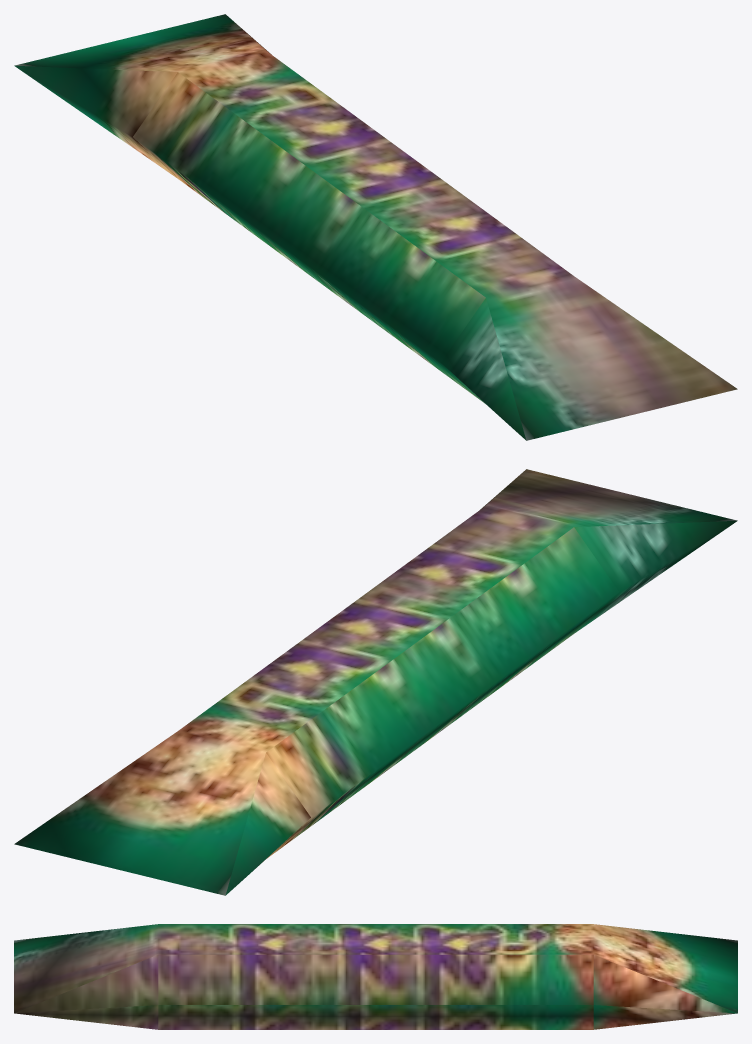
Rendered from Cookies_05.glb.
The picture shows the model from 3 angles, top to bottom: view 1: azimuth 30°, elevation 25°; view 2: azimuth 150°, elevation 25°; view 3: azimuth 270°, elevation 25°; orthographic projection. The views are drawn at different scales.
Visible parts, largest first — view 1: Cookies_05; view 2: Cookies_05; view 3: Cookies_05.
Boxes of the visible parts, <box> form: Cookies_05: <box>14,14,737,440</box>; Cookies_05: <box>14,469,737,895</box>; Cookies_05: <box>14,924,737,1029</box>.
Bounding box in the file's own units: 0.0869 × 0.0419 × 0.3645.
1 material, 1 textured.
